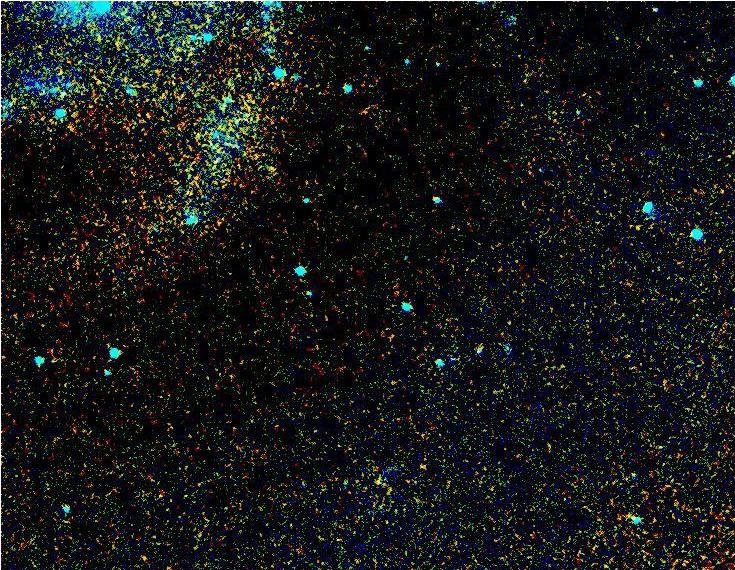star: (260, 158, 290, 188)
